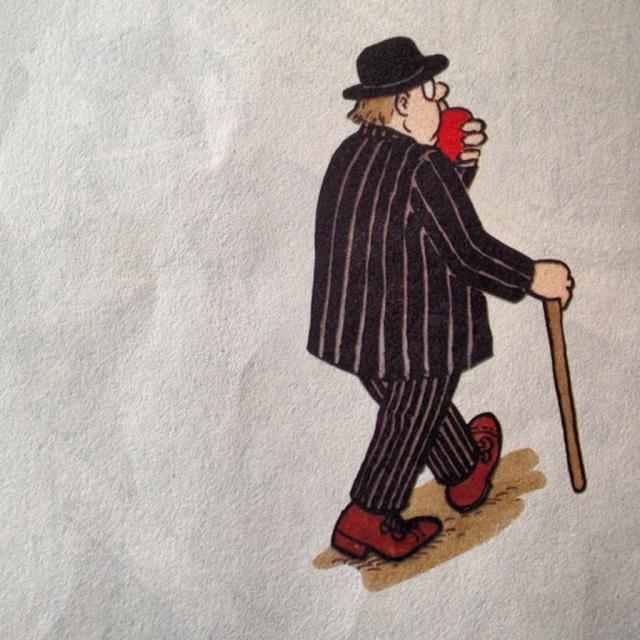Hat: (344, 34, 452, 98)
